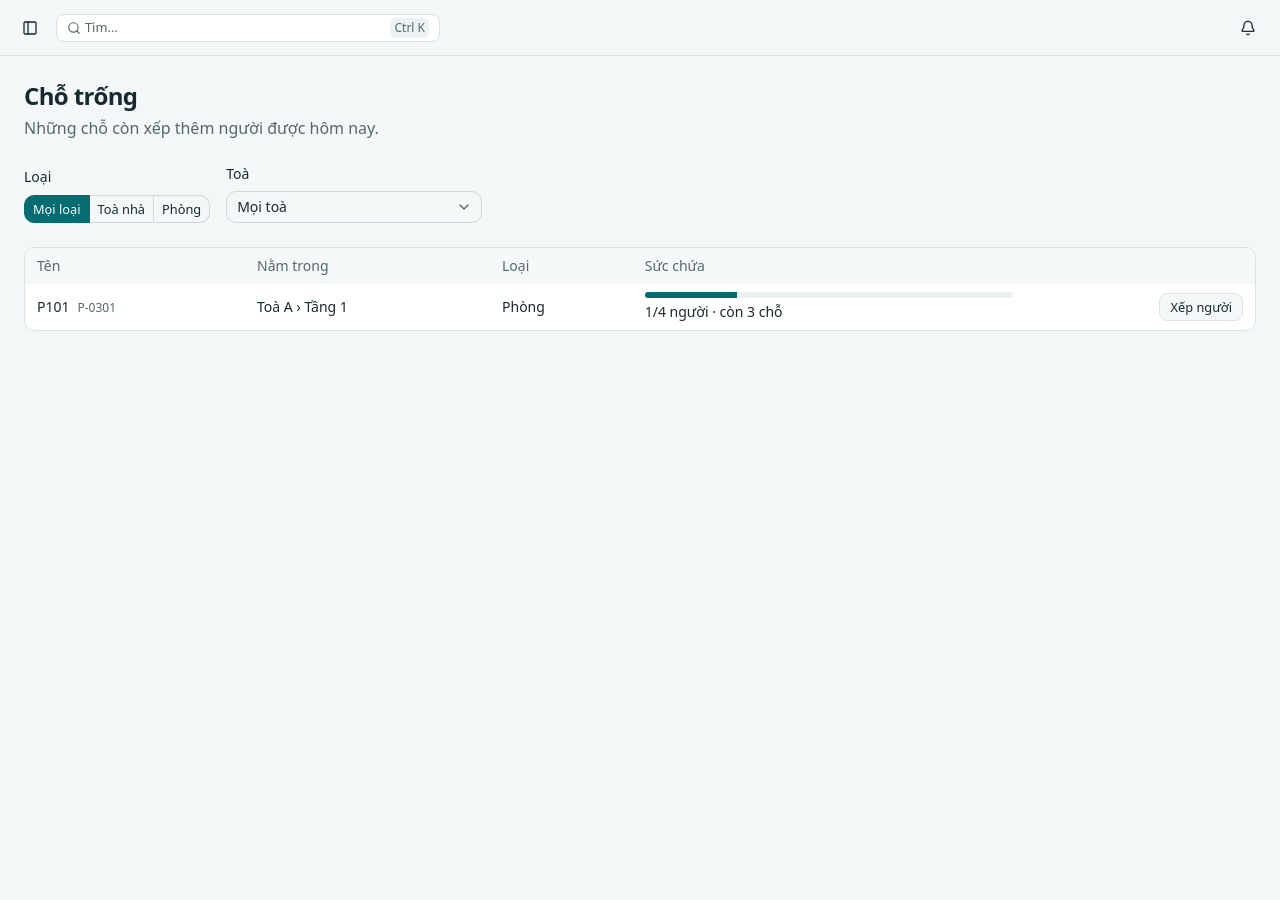
Test case: seatSomeoneOpensTheFormForThatPlace
Later steps or results of the test are not shown.
Expected: the link "P101" is shown, [37, 297, 70, 316]
Click the button with aria-label "Xếp người vào P101": (1201,307) [1160, 293, 1243, 321]
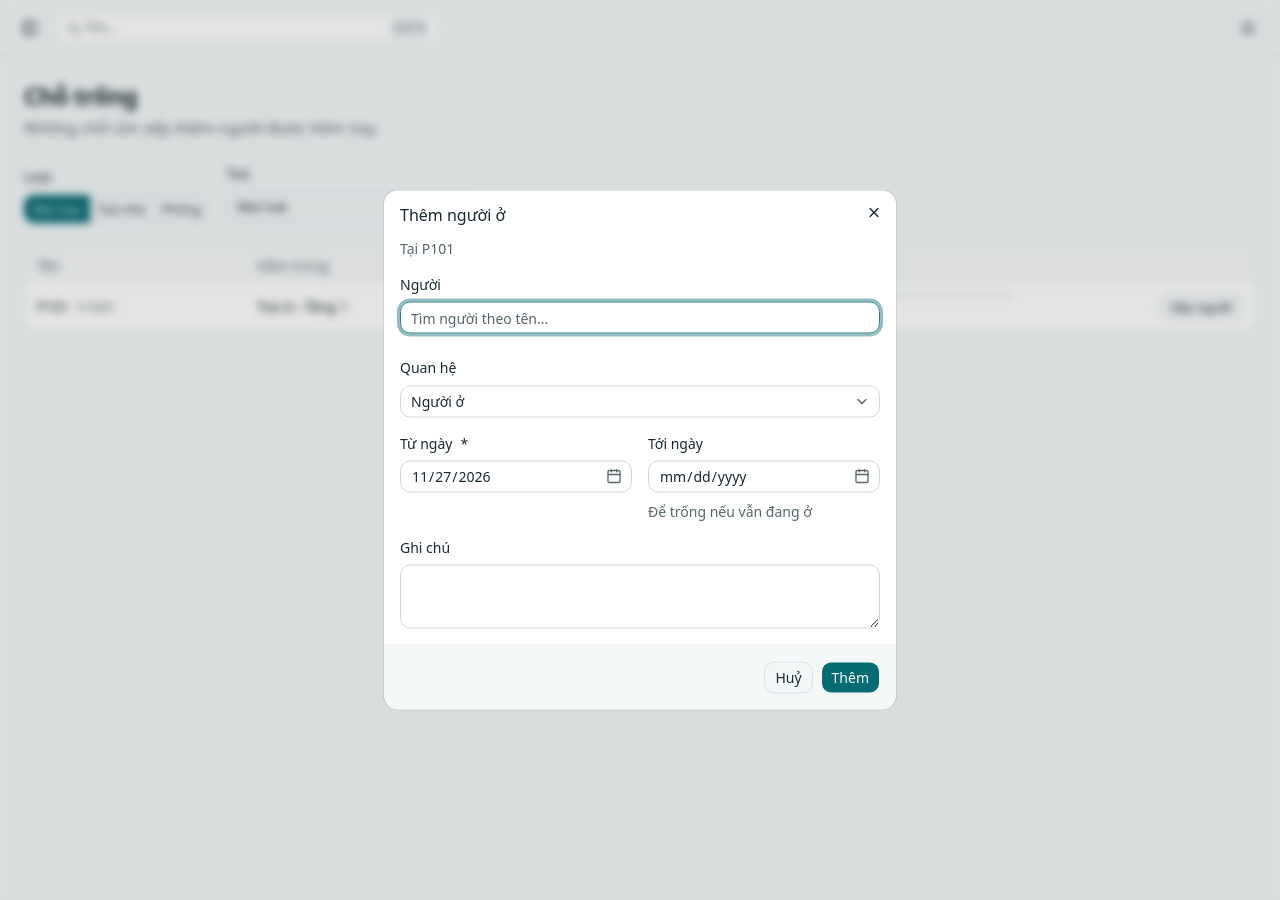
Expected: the text "Tại P101" is shown, [400, 238, 454, 258]
